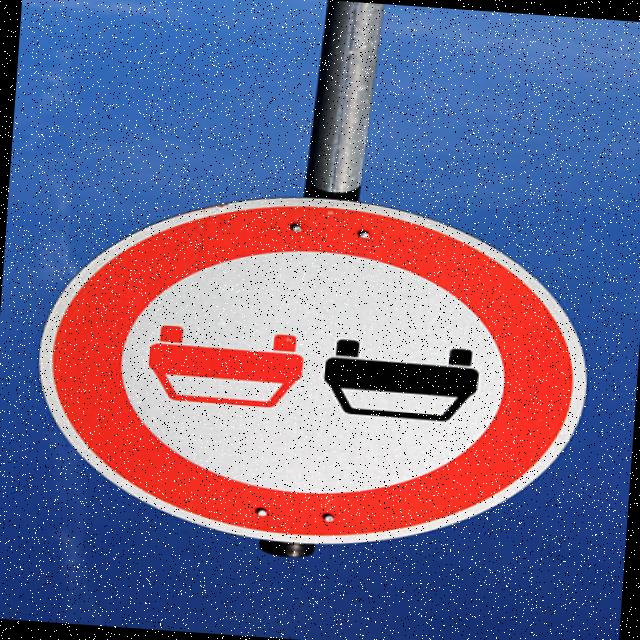no_passing: (31, 174, 602, 569)
